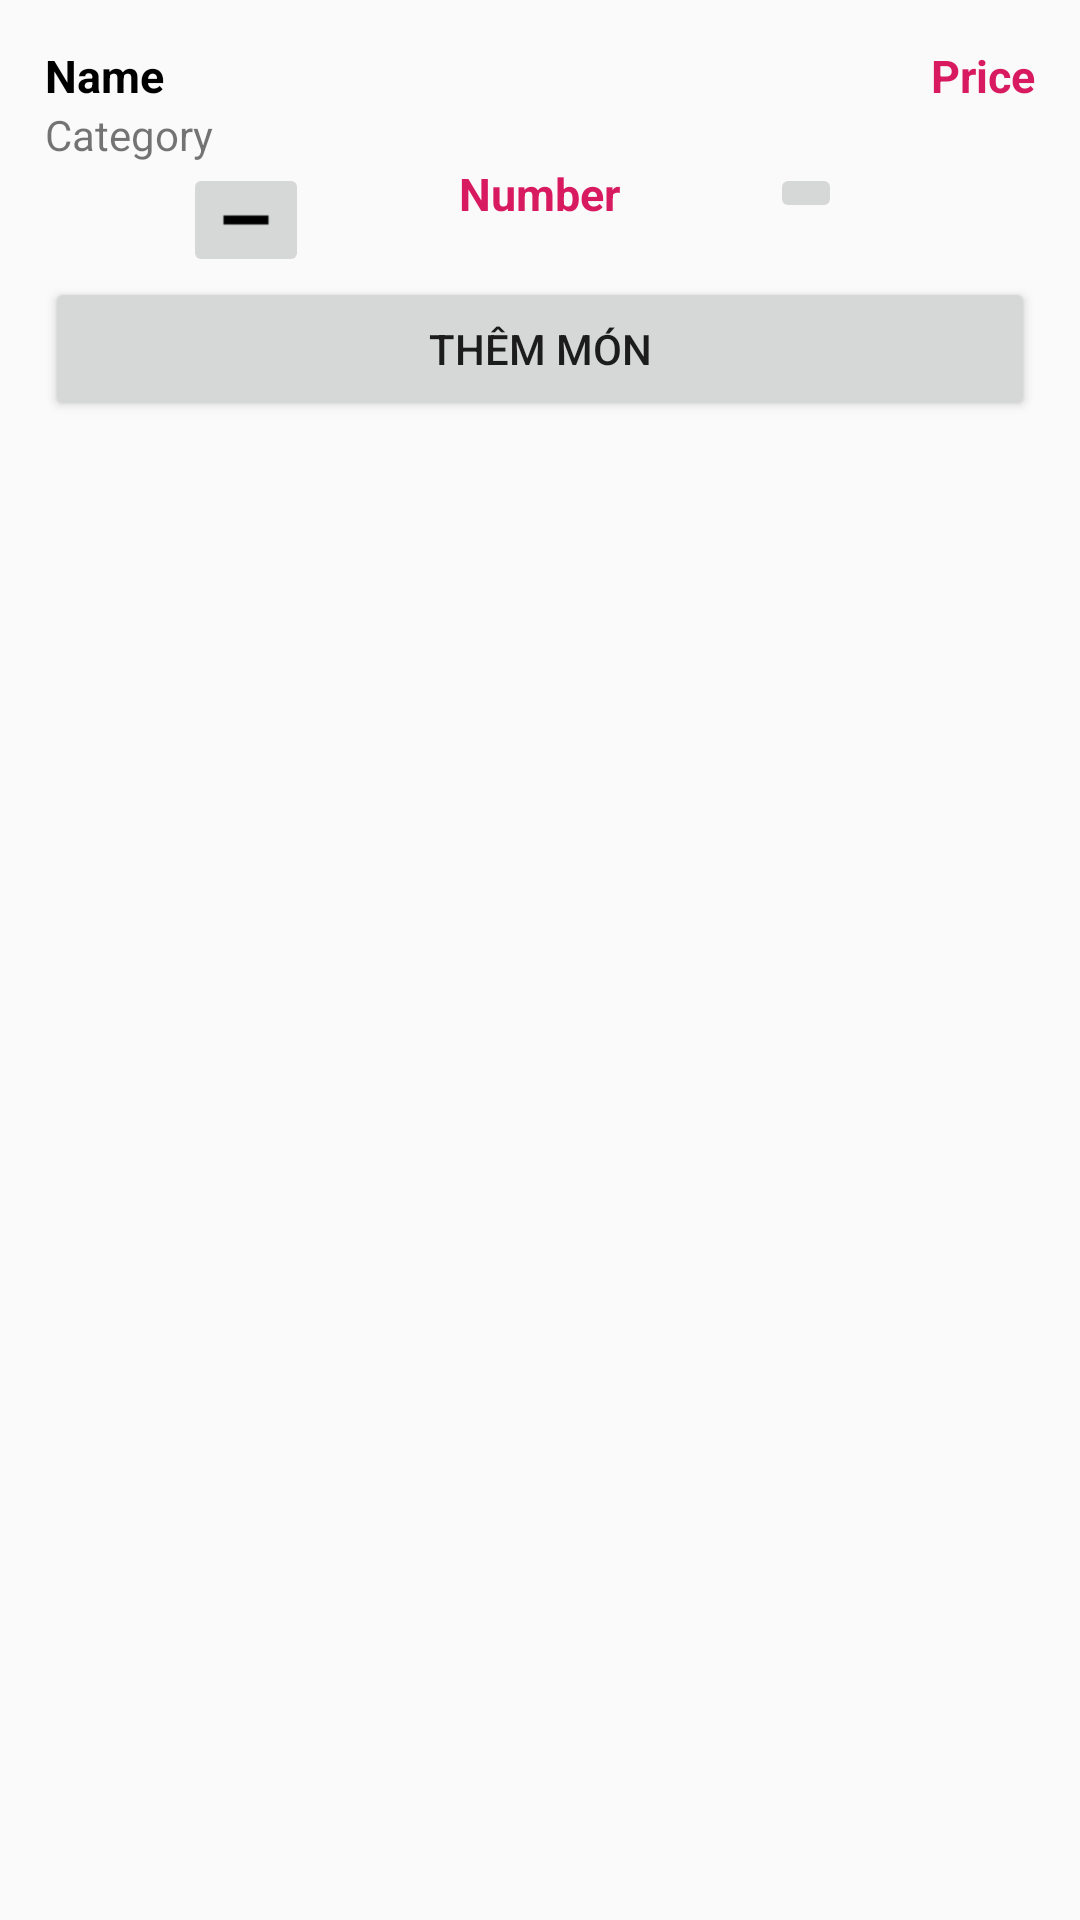

Screen size 1080px×1920px. Icon name, then its box in pixels as [x1, y1, x2, y2]:
minus: [195, 181, 297, 259]
